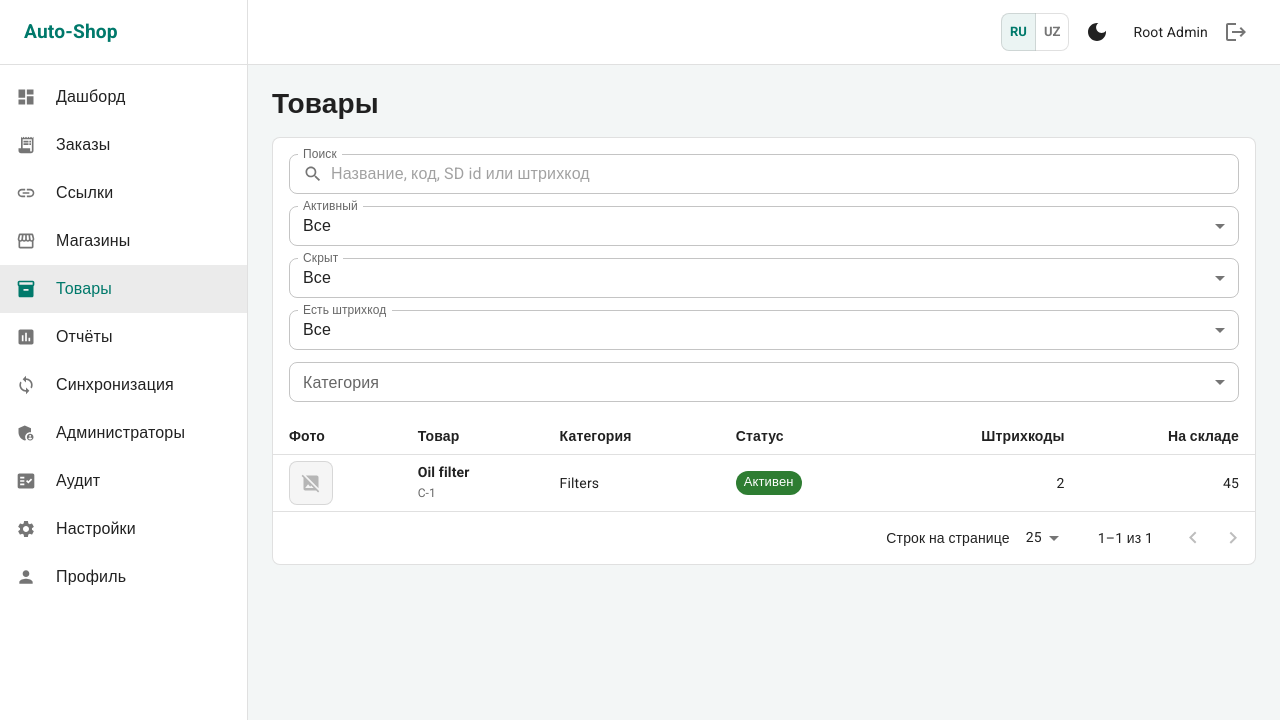
Test case: admin products › drawer shows stock per warehouse and prices per type
Click the button named "Открыть товар: Oil filter" at [764, 483], box [273,454,1255,511]
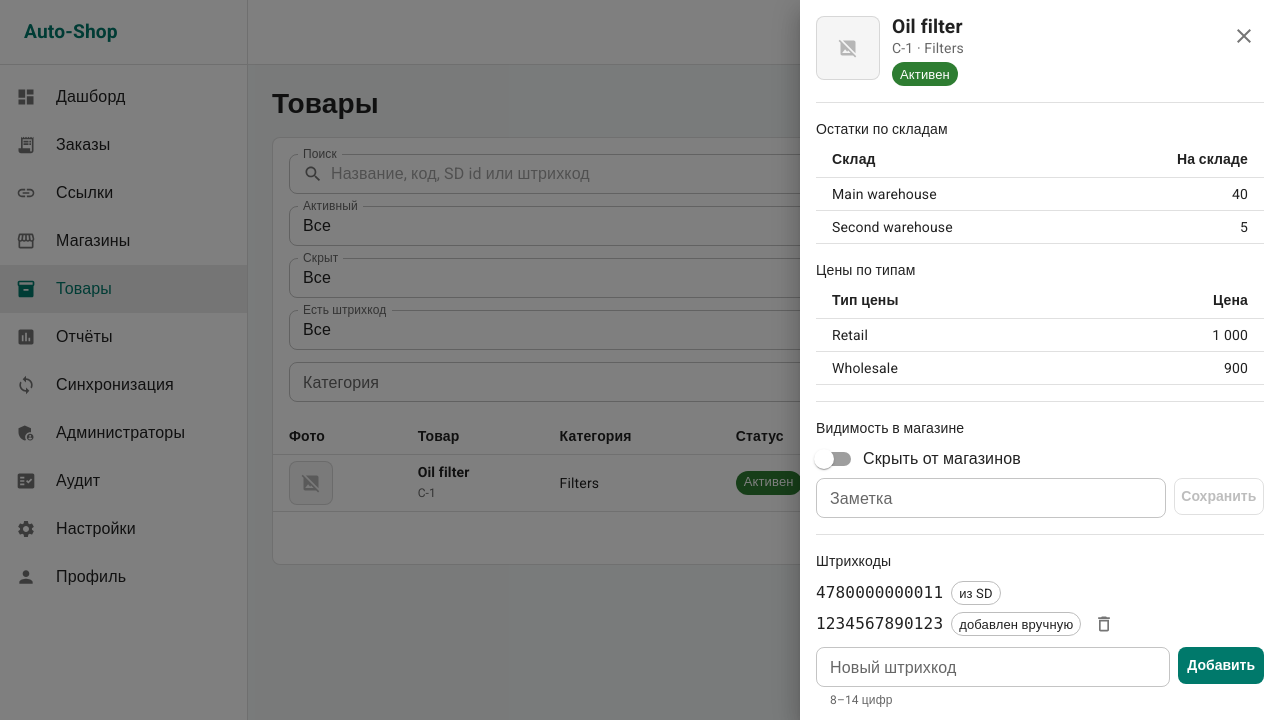
Result: the text "Main warehouse" is shown at [816,178,1084,211]
Result: the text "40" is shown at [1084,178,1264,211]
Result: the text "Wholesale" is shown at [816,352,1082,385]
